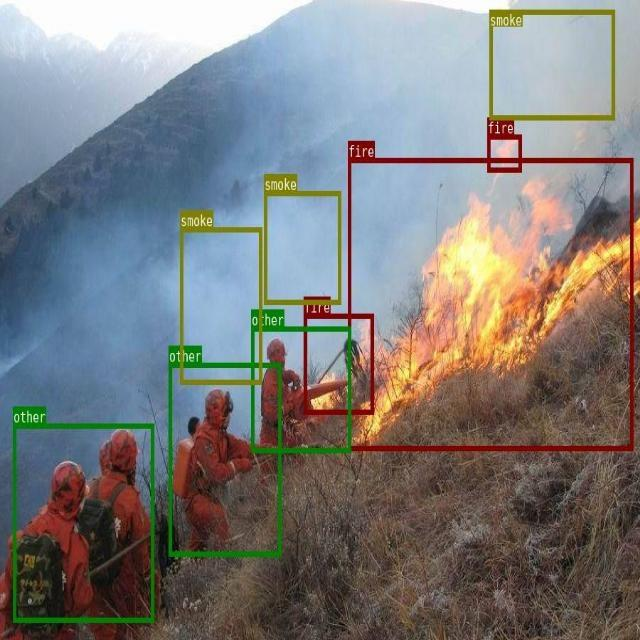fire: (348, 157, 633, 450), (303, 313, 373, 413), (487, 134, 521, 171)
smoke: (490, 10, 615, 120), (180, 227, 262, 383), (264, 191, 341, 303)
